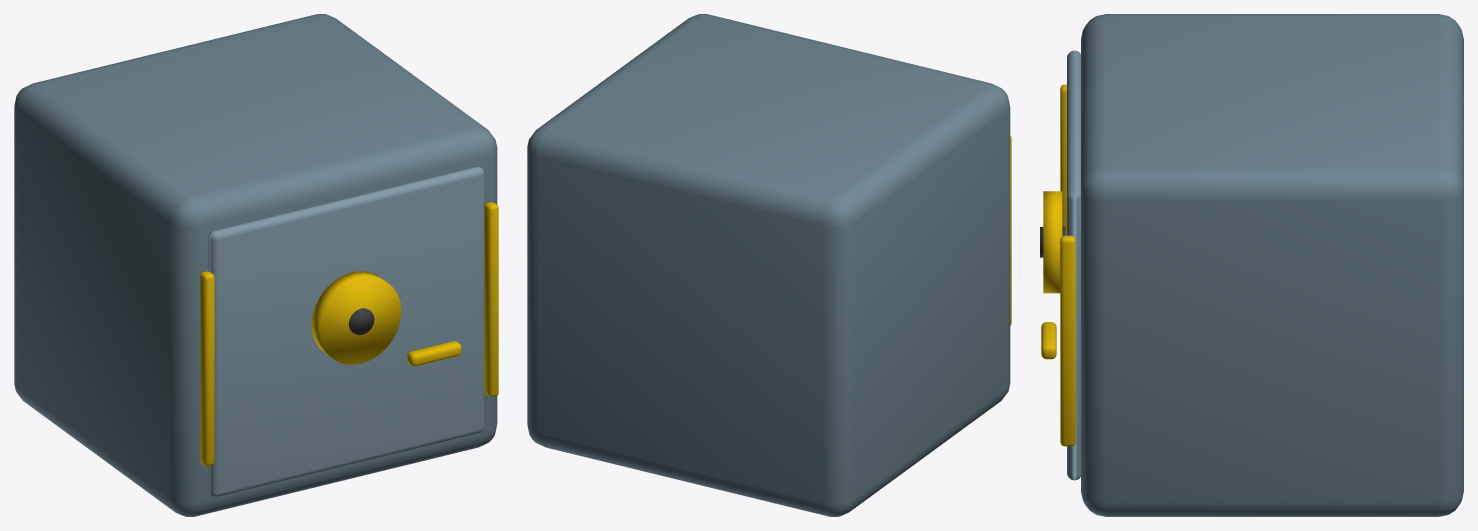
The model's file is safe.glb.
3 renders of one model, left to right at view 1: azimuth 30°, elevation 25°; view 2: azimuth 150°, elevation 25°; view 3: azimuth 270°, elevation 25°, orthographic. The views are drawn at different scales.
Parts seen in each view (by area): view 1: sbody, sdoor, Cylinder, hinge, hinge.001, handle, Cylinder.001; view 2: sbody; view 3: sbody, sdoor, hinge.001, Cylinder, hinge, handle.
Part boxes in pixels (left/top/right/bottom): sbody: left=14, top=14, right=497, bottom=516; sdoor: left=208, top=166, right=484, bottom=497; Cylinder: left=311, top=271, right=401, bottom=364; hinge: left=200, top=271, right=214, bottom=466; hinge.001: left=484, top=202, right=498, bottom=396; handle: left=407, top=341, right=461, bottom=366; Cylinder.001: left=348, top=308, right=374, bottom=335; sbody: left=527, top=14, right=1010, bottom=516; sbody: left=1081, top=14, right=1463, bottom=516; sdoor: left=1067, top=50, right=1080, bottom=480; hinge.001: left=1060, top=235, right=1075, bottom=446; Cylinder: left=1043, top=191, right=1062, bottom=293; hinge: left=1060, top=84, right=1066, bottom=235; handle: left=1041, top=322, right=1056, bottom=359.
Size of the model in its own units: 0.32 by 0.3 by 0.332.
